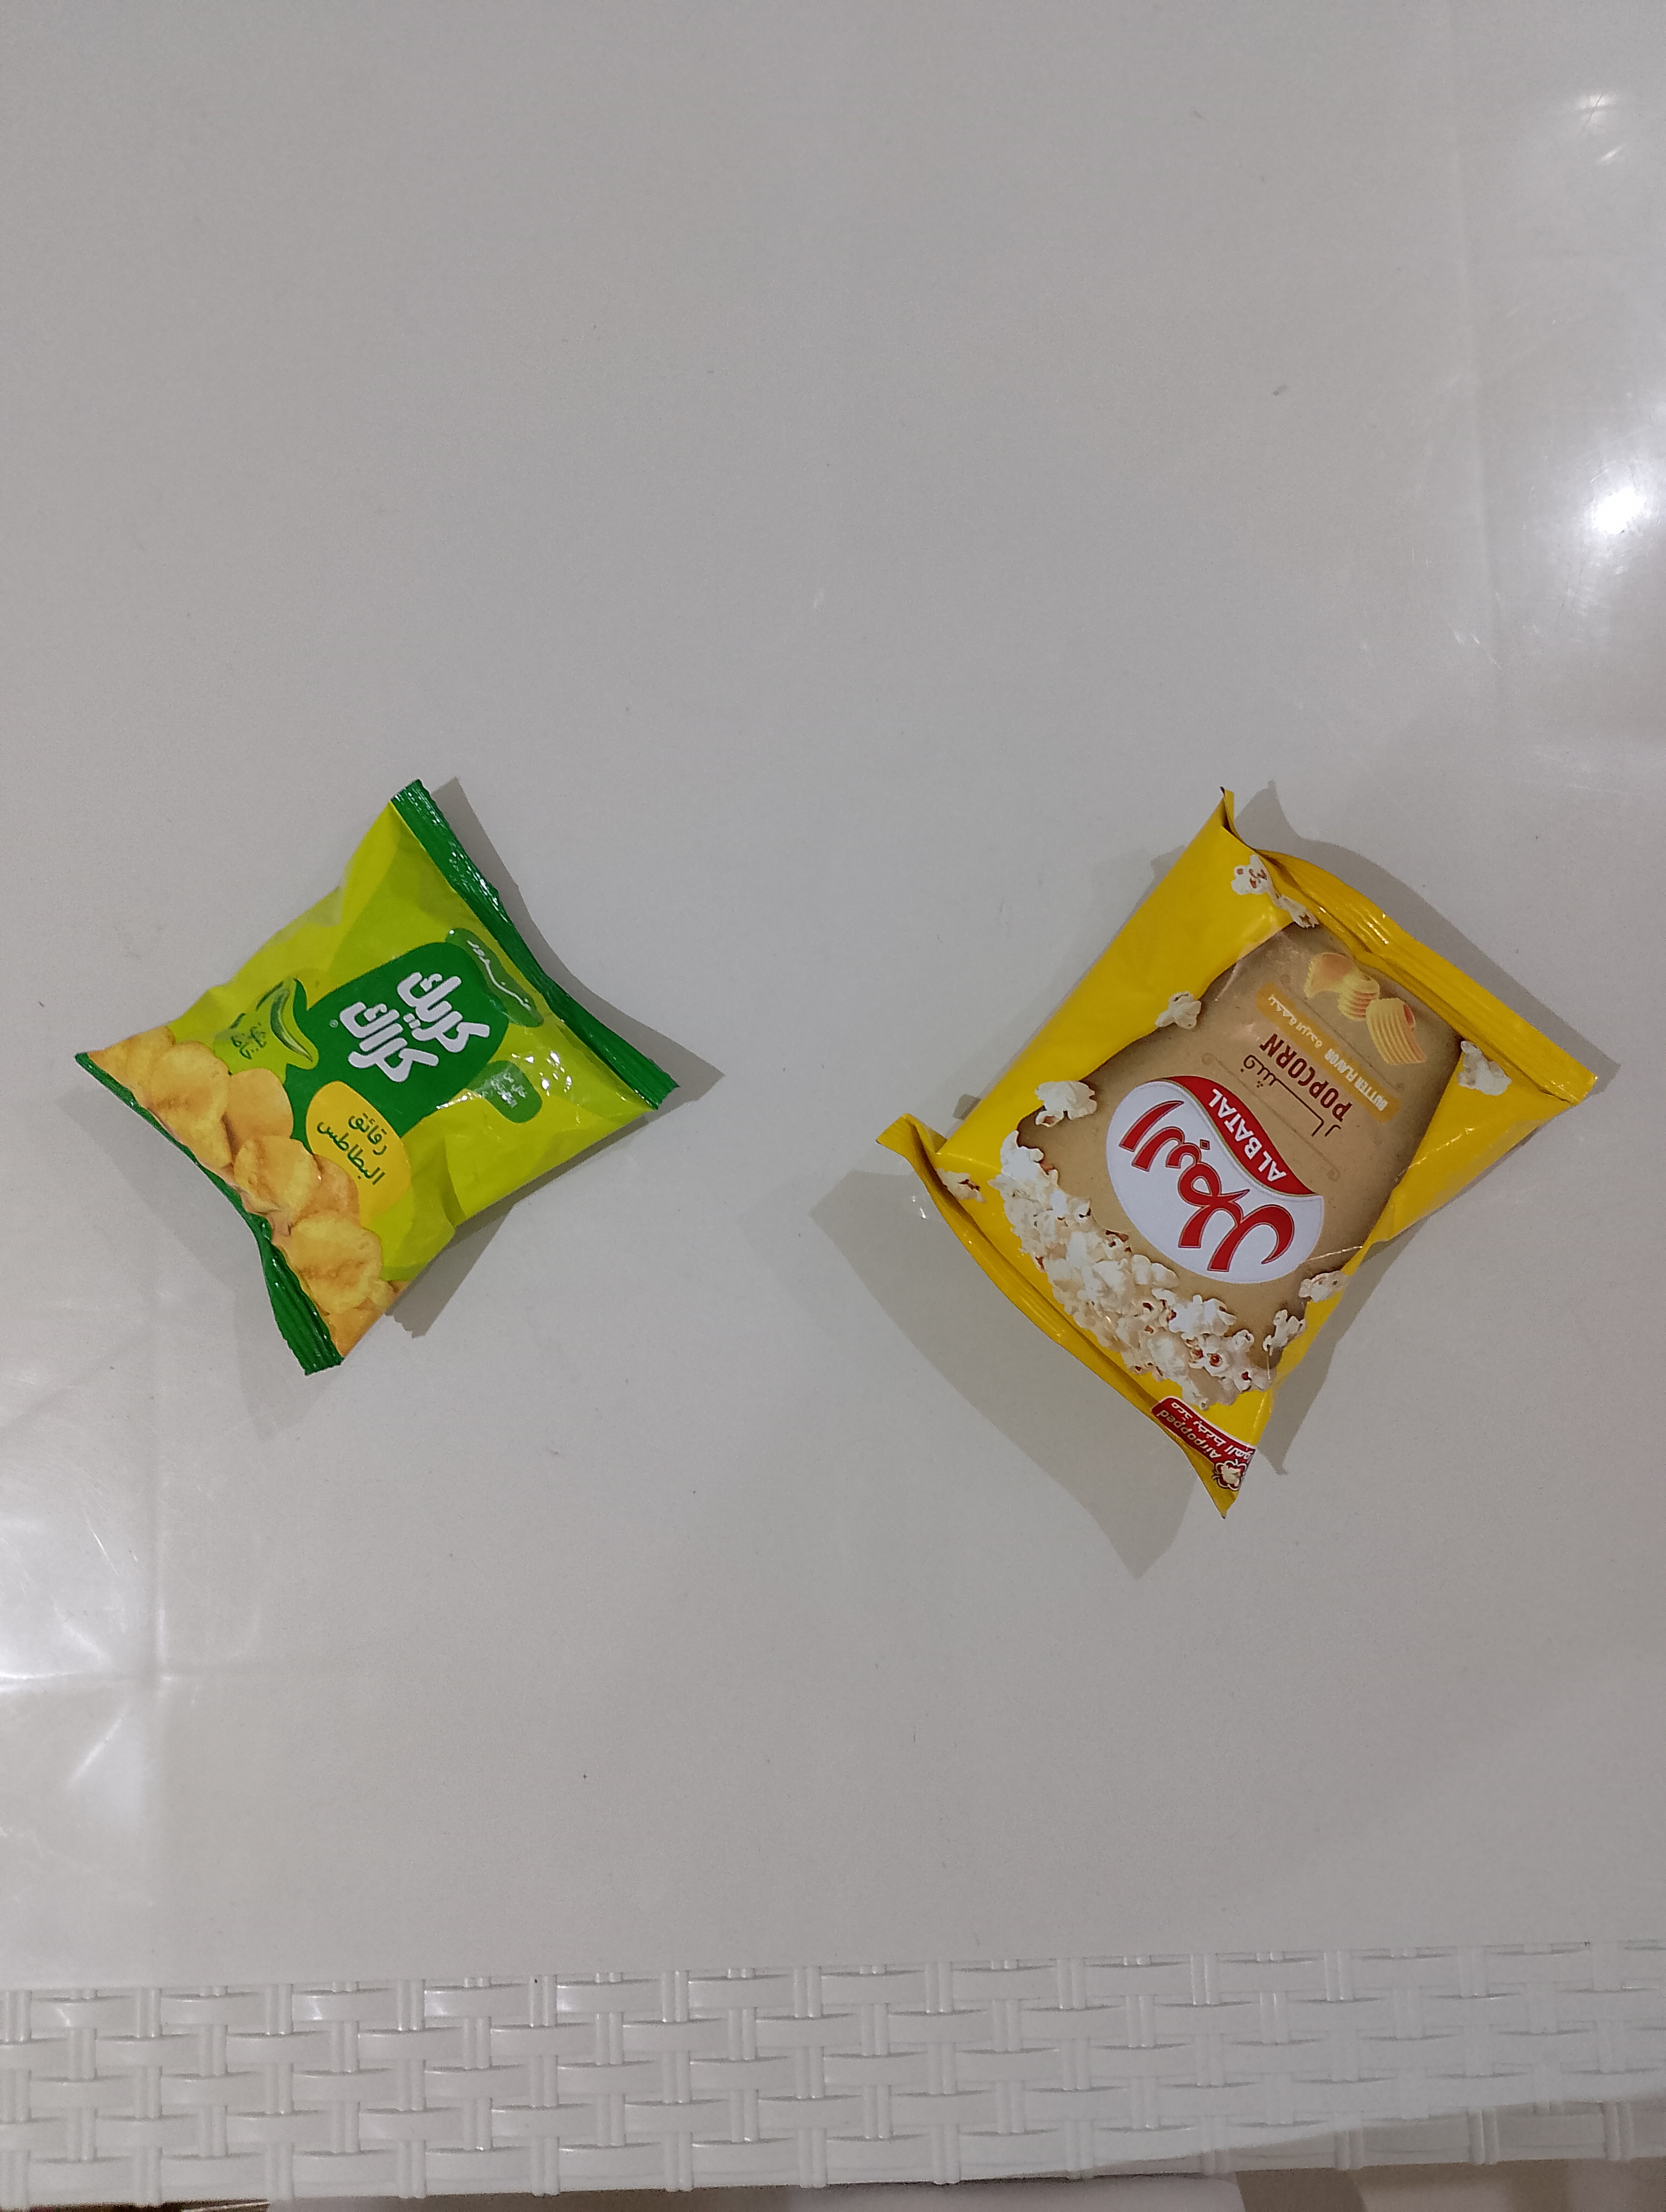albatal_popcorn_butter_flavor: (871, 783, 1599, 1523)
cric_crac_special_flavour: (72, 776, 683, 1376)
